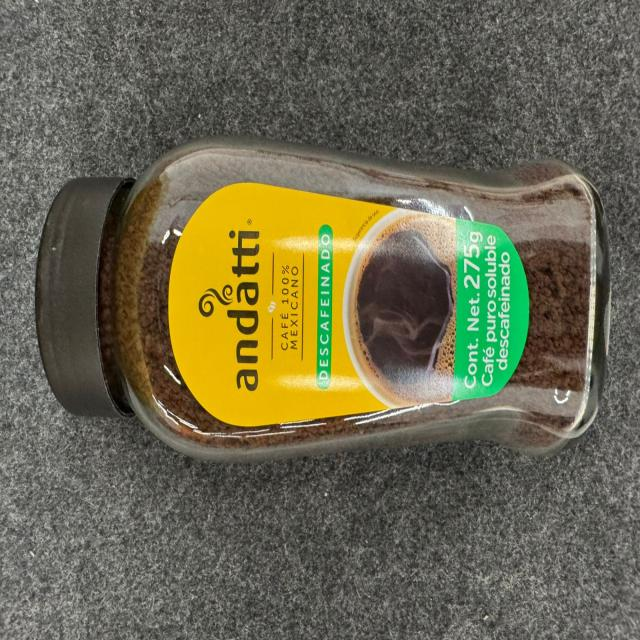CAFE SOLUBLE ANDATTI DESCAFEINADO 275G: (35, 136, 614, 463)
